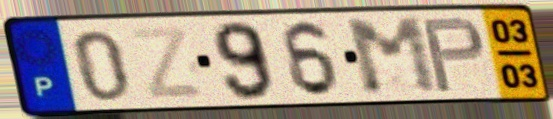0: (69, 27, 137, 103)
6: (278, 18, 343, 100)
9: (208, 18, 278, 103)
M: (341, 14, 445, 99)
P: (418, 14, 488, 95)
Z: (126, 24, 208, 102)
